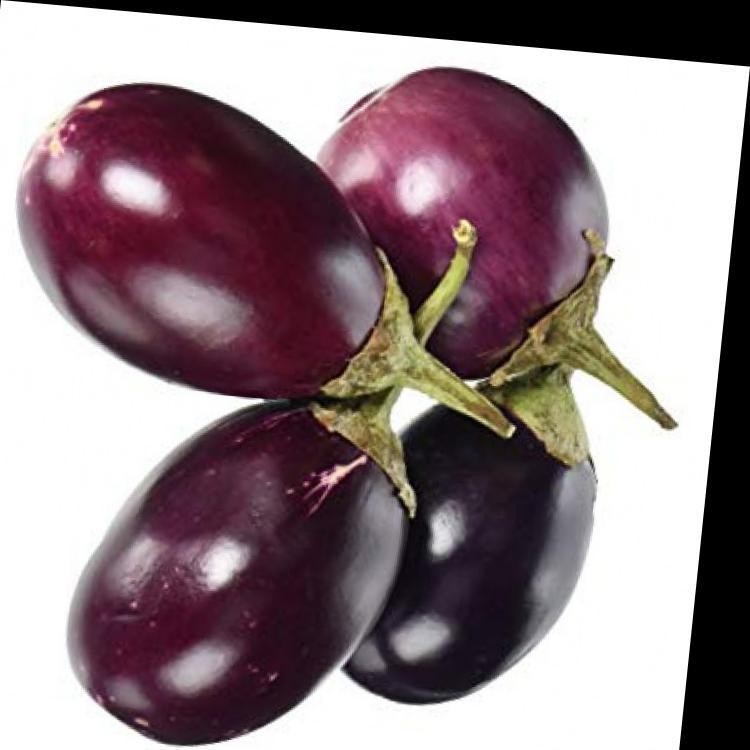eggplant: (0, 47, 517, 421), (8, 374, 448, 749), (312, 45, 690, 410), (377, 344, 696, 749)
